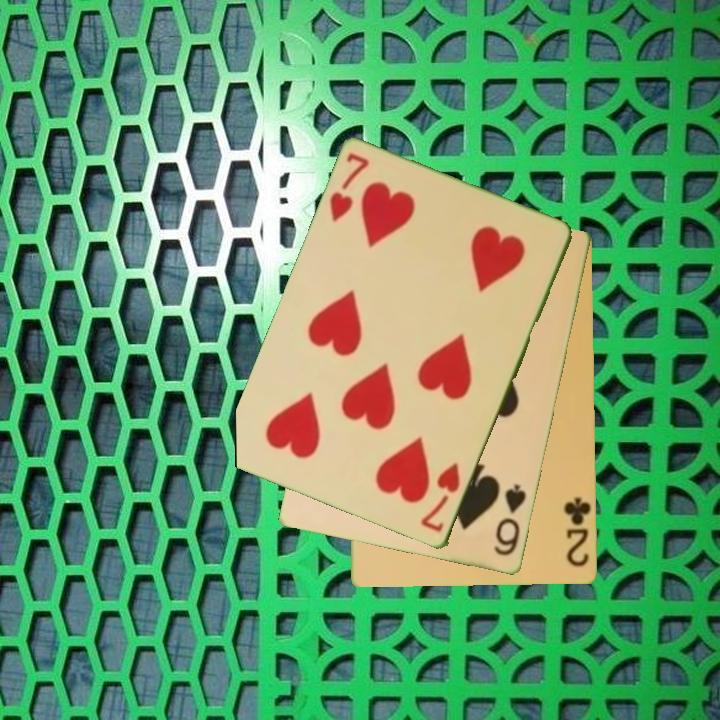2c: (561, 494, 594, 570)
6s: (490, 481, 530, 560)
7h: (417, 459, 464, 536), (326, 150, 372, 226)
